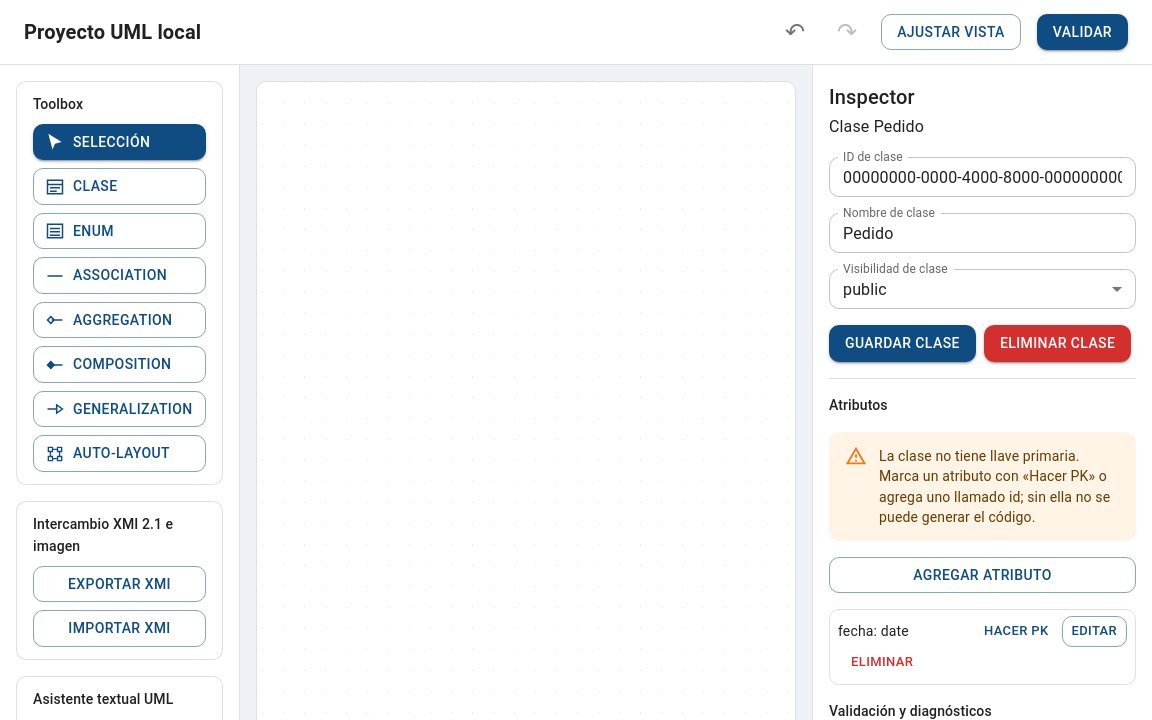
Scenario: elegir la llave primaria › el inspector muestra PK, avisa si falta y permite elegirla con «Hacer PK»
The width and height of the screenshot is (1152, 720).
Expected: the text "La clase no tiene llave primaria" is shown, [879, 448, 1110, 524]
Click the button with aria-label "Marcar fecha como llave primaria". click: (1016, 631)
box: [979, 616, 1054, 647]
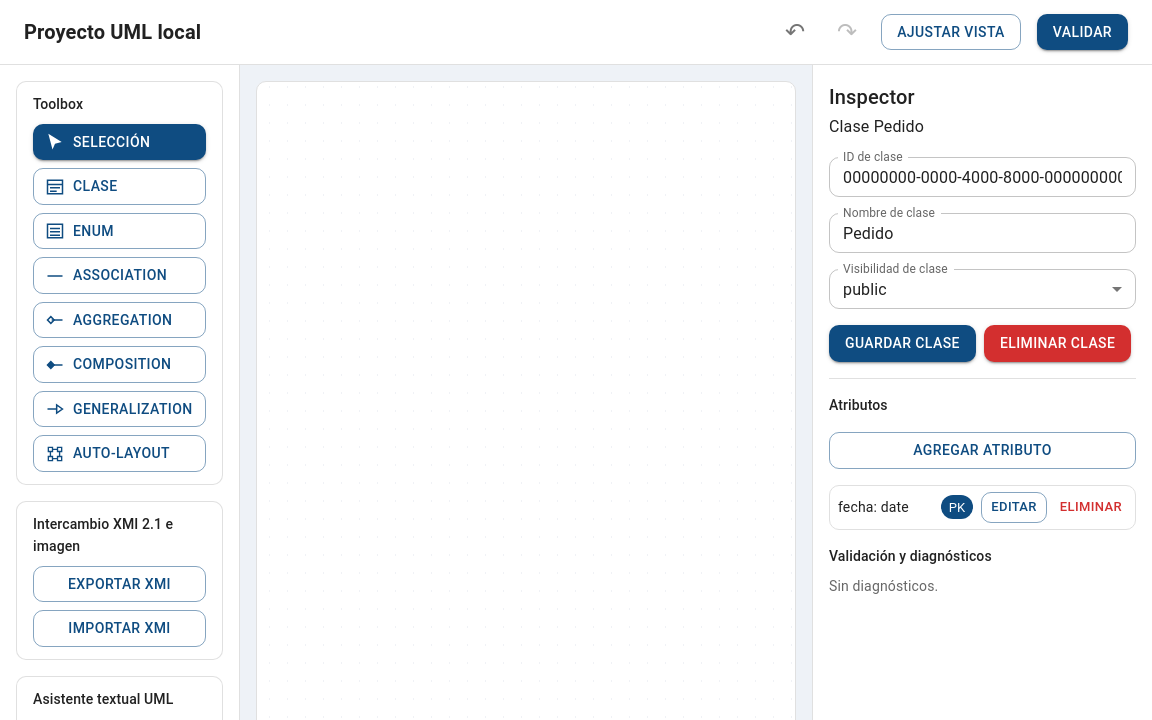
Expected: the element named "fecha es la llave primaria" is shown, [941, 495, 973, 519]
Expected: the text "La clase no tiene llave primaria" is gone
